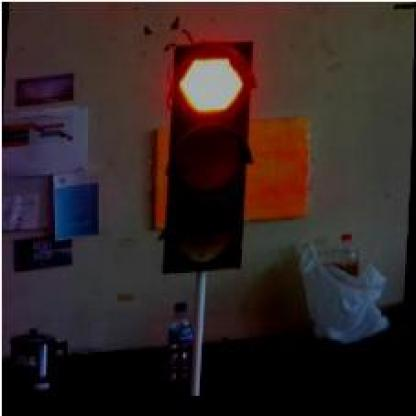red: (160, 42, 254, 277)
